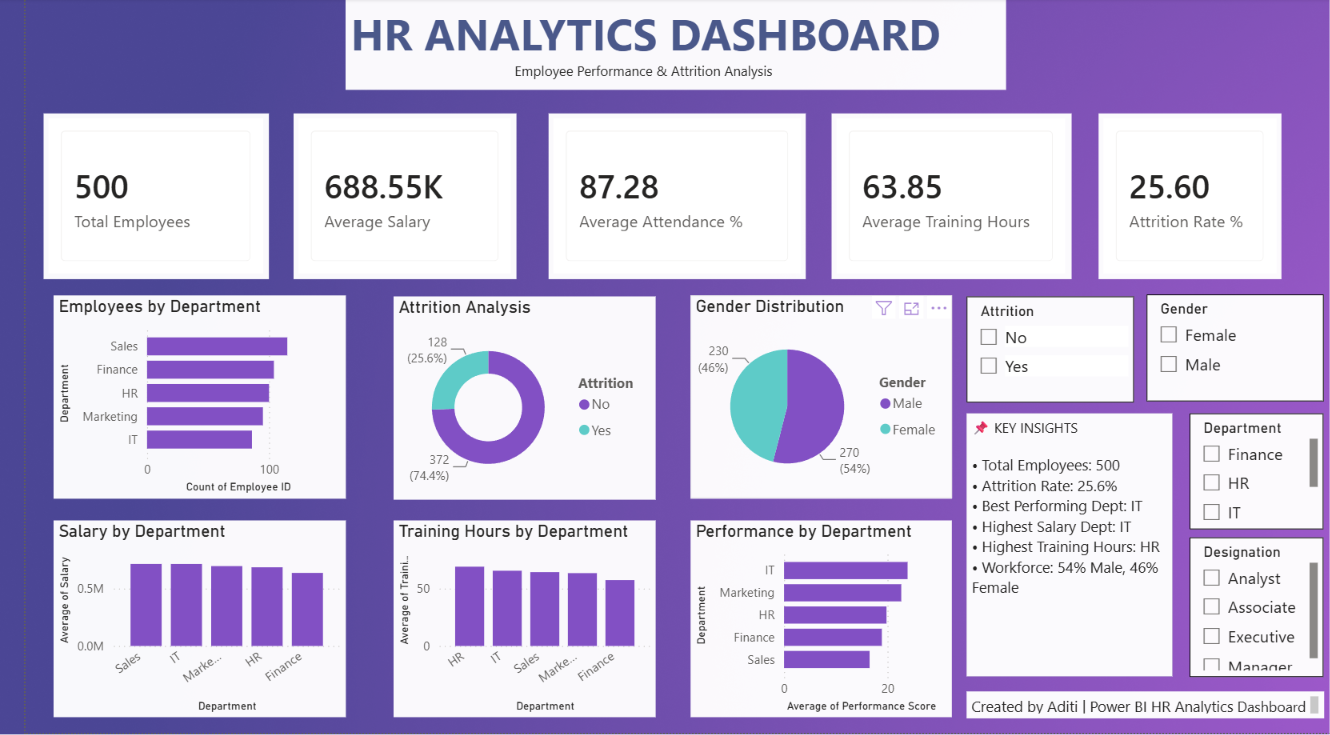

The dashboard page shown, as its layout file describes it:
{"tool":"powerbi","page":{"name":"sheet 1","canvas":[1280,720],"ordinal":0},"visuals":[{"type":"cardVisual","title":"Total Employees","fields":{"Data":["CountNonNull(Sheet1.Employee ID)"]},"box":[17.4,112.8,220.9,162.8],"z":0},{"type":"cardVisual","fields":{"Data":["Avg(Sheet1.Salary)"]},"box":[262.8,112.8,218.6,162.8],"z":1000},{"type":"cardVisual","fields":{"Data":["Avg(Sheet1.Attendance %)"]},"box":[512.8,112.8,252.3,162.8],"z":2000},{"type":"cardVisual","fields":{"Data":["Avg(Sheet1.Training Hours)"]},"box":[789.5,112.8,234.9,162.8],"z":3000},{"type":"clusteredBarChart","title":"Employees by Department","fields":{"Category":["Sheet1.Department"],"Y":["CountNonNull(Sheet1.Employee ID)"]},"box":[27.9,290.7,286,198.8],"z":4000},{"type":"donutChart","title":"Attrition Analysis","fields":{"Category":["Sheet1.Attrition"],"Y":["CountNonNull(Sheet1.Employee ID)"]},"box":[360.5,291.9,257,198.8],"z":5000},{"type":"clusteredColumnChart","title":"Salary by Department","fields":{"Category":["Sheet1.Department"],"Y":["Avg(Sheet1.Salary)"]},"box":[27.9,511.6,286,193],"z":6000},{"type":"pieChart","title":"Gender Distribution","fields":{"Category":["Sheet1.Gender"],"Y":["CountNonNull(Sheet1.Employee ID)"]},"box":[651.2,290.7,255.8,198.8],"z":7000},{"type":"clusteredBarChart","title":"Performance by Department","fields":{"Category":["Sheet1.Department"],"Y":["Avg(Sheet1.Performance Score)"]},"box":[651.2,511.6,255.8,193],"z":8000},{"type":"clusteredColumnChart","title":"Training Hours by Department","fields":{"Category":["Sheet1.Department"],"Y":["Avg(Sheet1.Training Hours)"]},"box":[360.5,511.6,257,193],"z":9000},{"type":"slicer","fields":{"Values":["Sheet1.Department"]},"box":[1140.8,406.9,131.4,113.6],"z":10000},{"type":"slicer","fields":{"Values":["Sheet1.Gender"]},"box":[1098.7,290.2,173.5,105.1],"z":11000},{"type":"slicer","fields":{"Values":["Sheet1.Designation"]},"box":[1140.8,527.8,131.4,136.7],"z":12000},{"type":"slicer","fields":{"Values":["Sheet1.Attrition"]},"box":[922.1,292.3,164,104.1],"z":13000},{"type":"textbox","box":[313.6,0,647.1,89.8],"z":15000},{"type":"cardVisual","fields":{"Data":["Sheet1.Attrition Rate %"]},"box":[1051.2,112.8,179.1,162.8],"z":18000},{"type":"shape","box":[922.1,406.9,201.9,257.6],"z":22000},{"type":"textbox","box":[922.1,406.9,201.9,257.6],"z":22001},{"type":"textbox","box":[922.1,679.2,350.1,26.3],"z":22002}]}

Visuals, with their boxes in screenshot pixels (x1, y1, x2, y2), scaled from the page's 1280x720 canvas onto the 1330x735 screenshot:
"Total Employees" cardVisual: (left=18, top=115, right=248, bottom=281)
cardVisual - Avg(Sheet1.Salary): (left=273, top=115, right=500, bottom=281)
cardVisual - Avg(Sheet1.Attendance %): (left=533, top=115, right=795, bottom=281)
cardVisual - Avg(Sheet1.Training Hours): (left=820, top=115, right=1064, bottom=281)
"Employees by Department" clusteredBarChart: (left=29, top=297, right=326, bottom=500)
"Attrition Analysis" donutChart: (left=375, top=298, right=642, bottom=501)
"Salary by Department" clusteredColumnChart: (left=29, top=522, right=326, bottom=719)
"Gender Distribution" pieChart: (left=677, top=297, right=942, bottom=500)
"Performance by Department" clusteredBarChart: (left=677, top=522, right=942, bottom=719)
"Training Hours by Department" clusteredColumnChart: (left=375, top=522, right=642, bottom=719)
slicer - Sheet1.Department: (left=1185, top=415, right=1322, bottom=531)
slicer - Sheet1.Gender: (left=1142, top=296, right=1322, bottom=404)
slicer - Sheet1.Designation: (left=1185, top=539, right=1322, bottom=678)
slicer - Sheet1.Attrition: (left=958, top=298, right=1129, bottom=405)
textbox: (left=326, top=0, right=998, bottom=92)
cardVisual - Sheet1.Attrition Rate %: (left=1092, top=115, right=1278, bottom=281)
shape: (left=958, top=415, right=1168, bottom=678)
textbox: (left=958, top=415, right=1168, bottom=678)
textbox: (left=958, top=693, right=1322, bottom=720)
